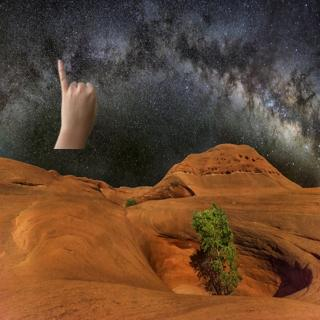FINE: (51, 56, 102, 136)
